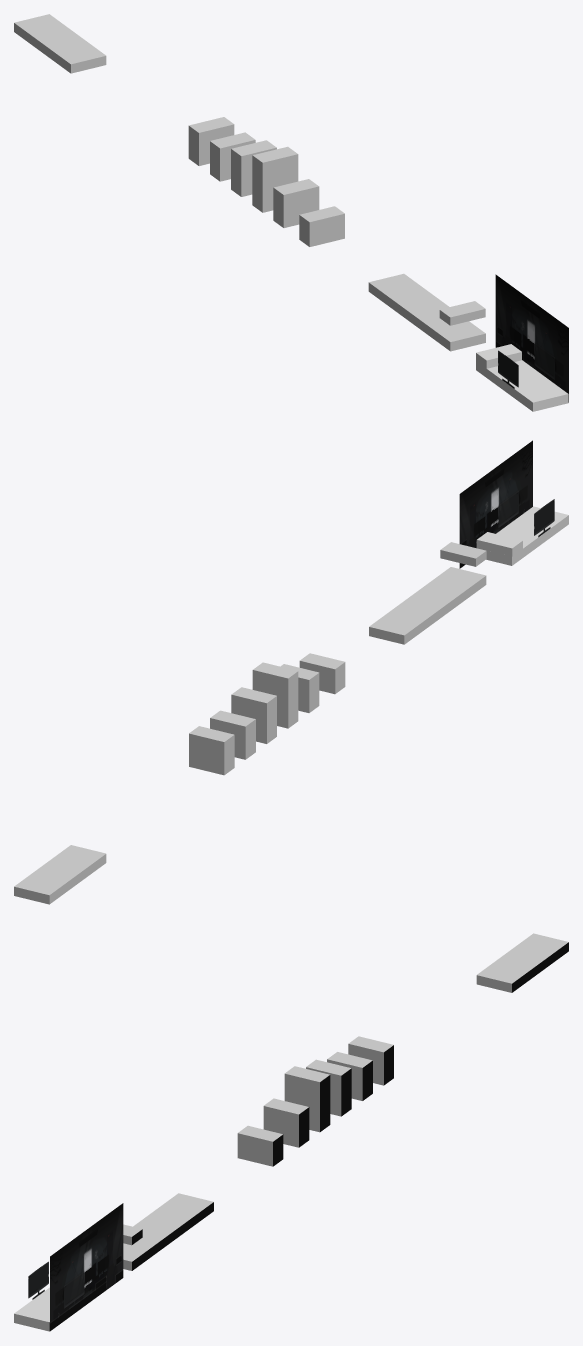
Rendered from Map_11.glb.
3 views of the same model, one above another, from view 1: azimuth 30°, elevation 25°; view 2: azimuth 150°, elevation 25°; view 3: azimuth 330°, elevation 25° (orthographic).
Visible parts, largest first — view 1: Plane ref, Plateform.001, Plateform.002, Plateform, Cube.002, Cube.001, Cube, Cube.005, Cube.003, Cube.004, Cube Ref double jump+hauteur.003, Cube Ref double jump+hauteur.001 (+1 smaller); view 2: Plane ref, Plateform.001, Plateform.002, Cube.002, Cube.005, Plateform, Cube.003, Cube.004, Cube, Cube.001, Cube Ref double jump+hauteur.003, Cube Ref double jump+hauteur.001; view 3: Plane ref, Plateform.001, Plateform.002, Cube.002, Cube.001, Cube, Cube.005, Cube.003, Cube.004, Plateform, Plane.
Part boxes in pixels (x1,y1,x2,y2): Plane ref: [495, 274, 568, 402]; Plateform.001: [368, 273, 485, 351]; Plateform.002: [14, 14, 106, 73]; Plateform: [476, 360, 568, 411]; Cube.002: [252, 146, 298, 212]; Cube.001: [273, 179, 319, 227]; Cube: [299, 206, 344, 246]; Cube.005: [188, 117, 234, 165]; Cube.003: [231, 140, 276, 196]; Cube.004: [210, 132, 255, 181]; Cube Ref double jump+hauteur.003: [439, 301, 485, 325]; Cube Ref double jump+hauteur.001: [476, 344, 521, 368]; Plane ref: [459, 440, 532, 568]; Plateform.001: [369, 567, 486, 644]; Plateform.002: [14, 845, 106, 904]; Cube.002: [252, 662, 298, 728]; Cube.005: [189, 726, 234, 775]; Plateform: [477, 506, 568, 565]; Cube.003: [231, 687, 276, 743]; Cube.004: [210, 710, 255, 759]; Cube: [299, 653, 345, 694]; Cube.001: [280, 664, 319, 712]; Cube Ref double jump+hauteur.003: [440, 542, 486, 566]; Cube Ref double jump+hauteur.001: [476, 532, 522, 556]; Plane ref: [50, 1203, 123, 1331]; Plateform.001: [123, 1193, 213, 1270]; Plateform.002: [476, 933, 568, 992]; Cube.002: [284, 1066, 330, 1132]; Cube.001: [263, 1098, 309, 1147]; Cube: [237, 1125, 283, 1166]; Cube.005: [348, 1036, 393, 1085]; Cube.003: [306, 1059, 351, 1116]; Cube.004: [327, 1052, 372, 1100]; Plateform: [14, 1287, 49, 1331]; Plane: [28, 1261, 48, 1299].
Size of the model in its own units: 2.04 by 4.04 by 50.67.
6 materials, 3 textured.
